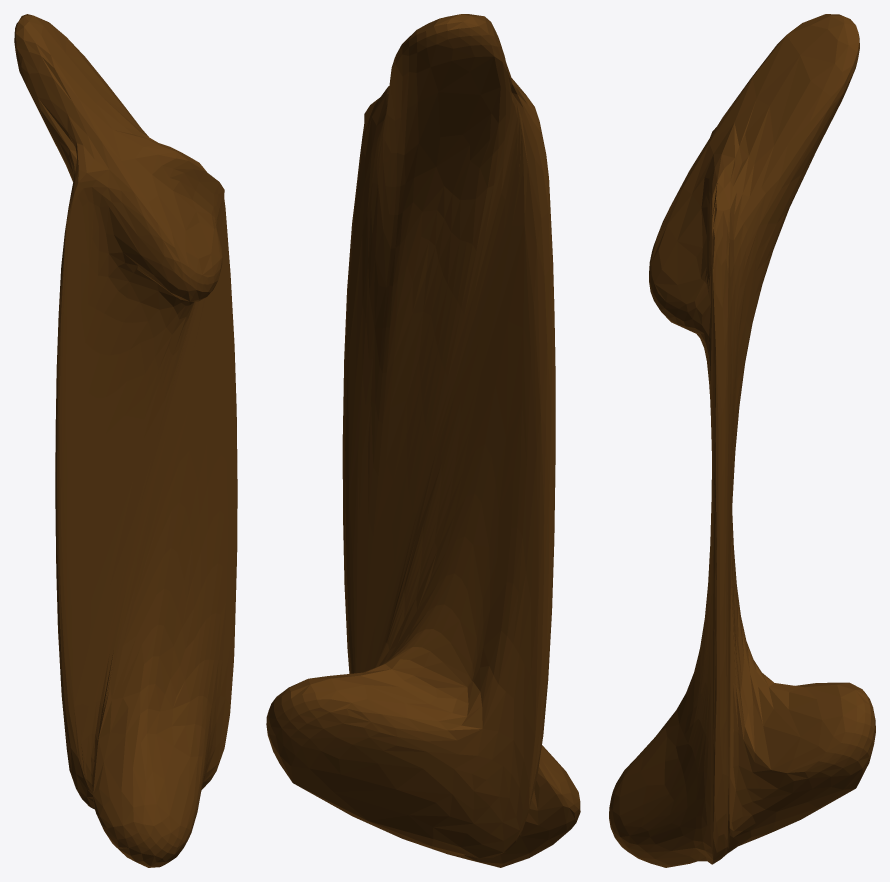
The picture shows the model from 3 angles, left to right: view 1: azimuth 30°, elevation 25°; view 2: azimuth 150°, elevation 25°; view 3: azimuth 270°, elevation 25°; orthographic projection. The views are drawn at different scales.
Visible parts, largest first — view 1: 517_Cube.2089; view 2: 517_Cube.2089; view 3: 517_Cube.2089.
Boxes of the visible parts, x1,y1,x2,y2 form: 517_Cube.2089: (14,14,237,867); 517_Cube.2089: (266,14,580,867); 517_Cube.2089: (609,14,875,867).
Bounding box in the file's own units: 3.57 × 14.78 × 4.31.
